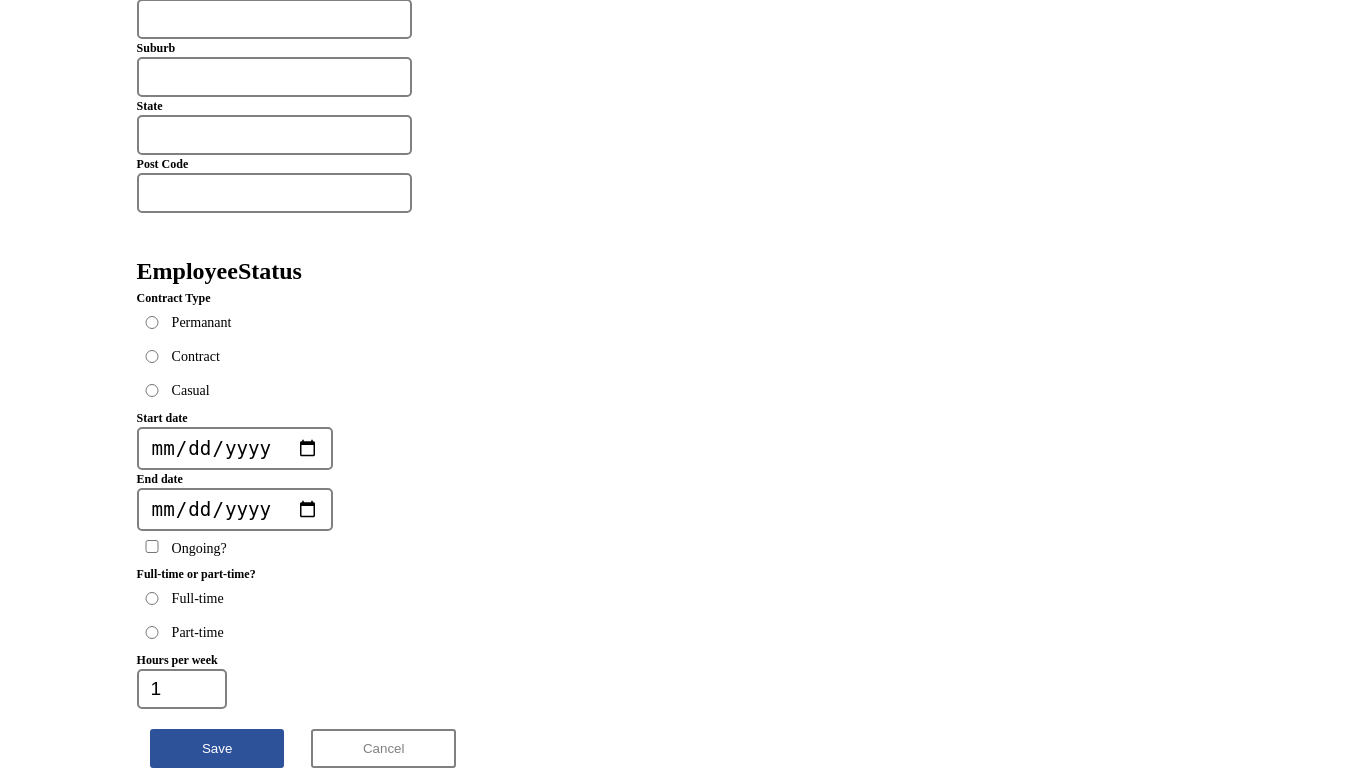
Test: Employee form tests › checks cancel button works
(page scrolled)
Click the button "Cancel" at (384,748), box [311,729,456,767]
(page scrolled)
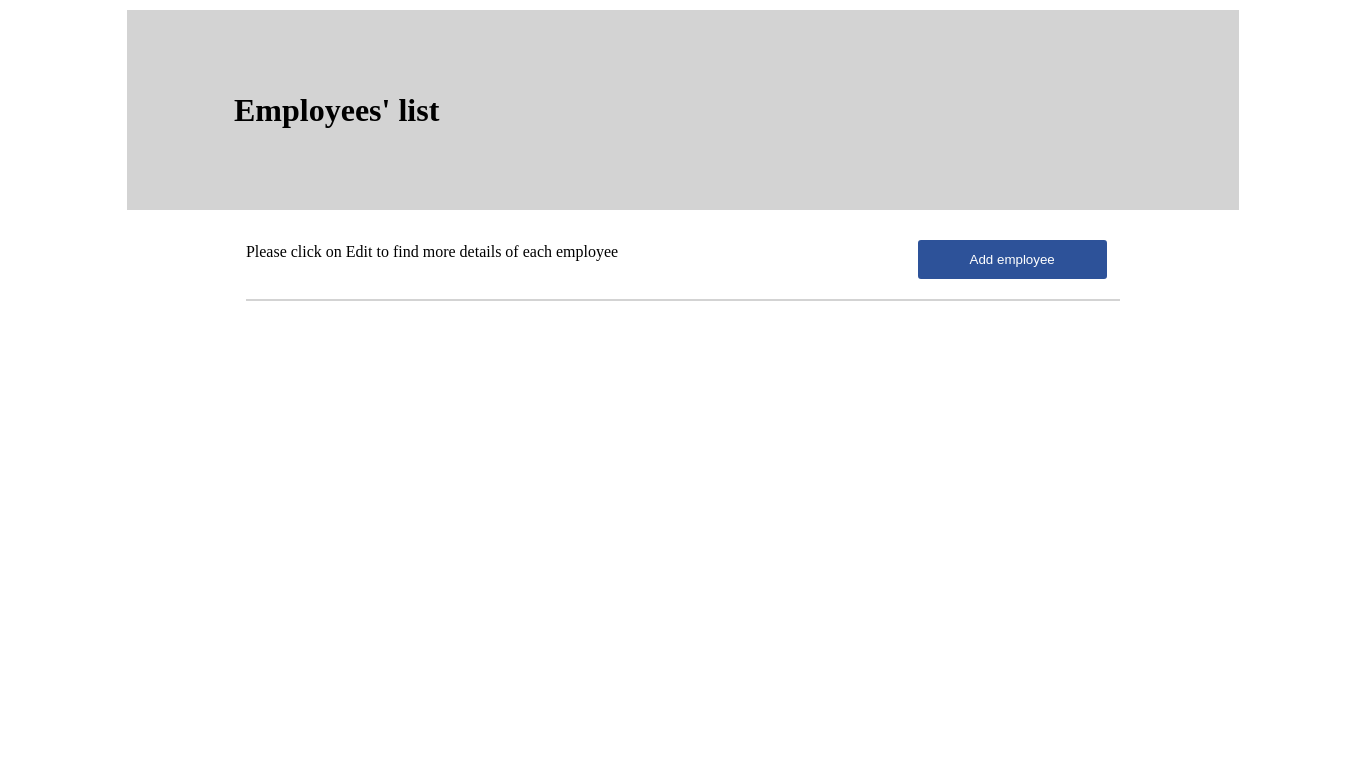
expect the heading "Employees' list" is shown: met, box [234,92,439,128]
